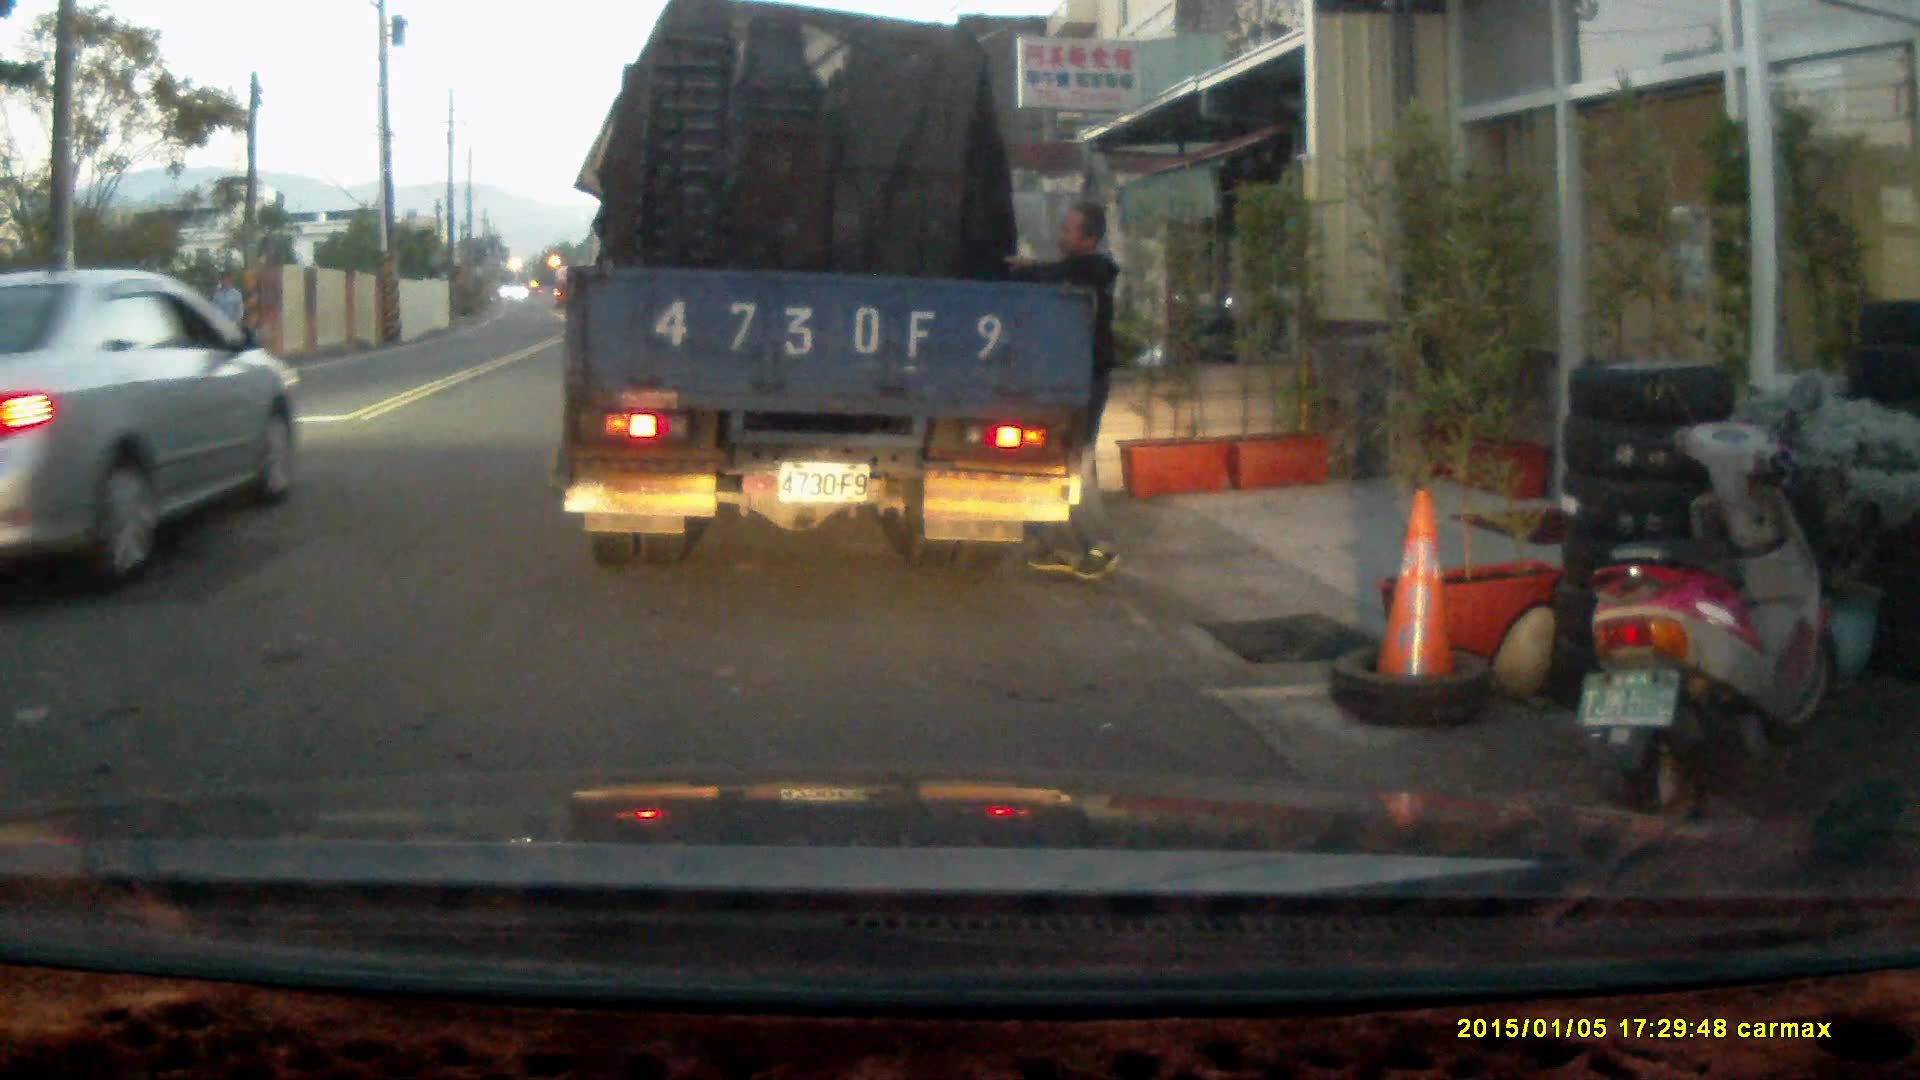pedestrian: (998, 198, 1124, 581), (205, 270, 245, 383)
vehicle: (565, 23, 1097, 572), (1, 264, 312, 611)
